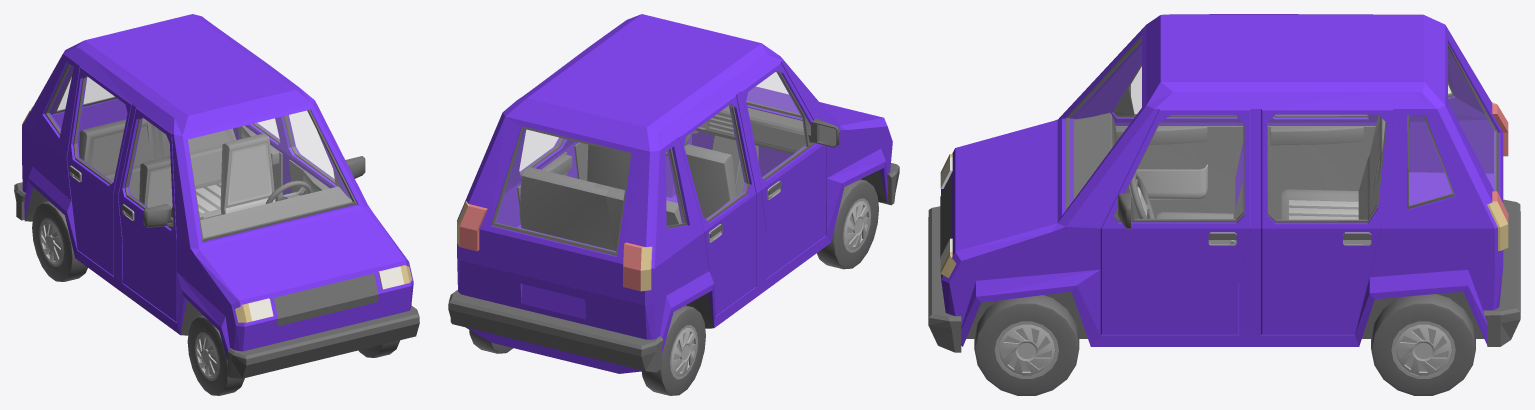
3 views of the same model, side by side, from view 1: azimuth 30°, elevation 25°; view 2: azimuth 150°, elevation 25°; view 3: azimuth 270°, elevation 25° (orthographic). The views are drawn at different scales.
Parts seen in each view (by area): view 1: Chassis_Chassis_0, Windows_Windows_0, Chassis_Bumpers_0, Interior_InteriorPanel_0, FR_Door_Chassis_0, RR_Door_Chassis_0, Interior_Handler_0, RR_Door_Windows_0, FR_Door_Windows_0, RR_Wheel_Tire_0, FR_Wheel_Tire_0, FL_Door_Windows_0 (+13 smaller); view 2: Chassis_Chassis_0, Windows_Windows_0, Interior_InteriorPanel_0, Chassis_Bumpers_0, FR_Door_Chassis_0, RR_Door_Chassis_0, RR_Door_Windows_0, FR_Door_Windows_0, FR_Wheel_Tire_0, RR_Wheel_Tire_0, Brake_Lights_Brake_lights_0, Interior_InteriorPanel_0.001 (+12 smaller); view 3: Chassis_Chassis_0, FL_Door_Chassis_0, RL_Door_Chassis_0, RL_Door_Windows_0, Windows_Windows_0, FL_Door_Windows_0, Chassis_Bumpers_0, RR_Door_InteriorPanel_0, FR_Door_InteriorPanel_0, RL_Wheel_Tire_0, FL_Wheel_Tire_0, Interior_InteriorPanel_0 (+14 smaller).
Part boxes in pixels (left/top/right/bottom): Chassis_Chassis_0: left=22, top=14, right=413, bottom=360; Windows_Windows_0: left=48, top=65, right=352, bottom=237; Chassis_Bumpers_0: left=14, top=63, right=419, bottom=378; Interior_InteriorPanel_0: left=79, top=118, right=352, bottom=237; FR_Door_Chassis_0: left=118, top=108, right=176, bottom=321; RR_Door_Chassis_0: left=67, top=67, right=131, bottom=276; Interior_Handler_0: left=147, top=142, right=274, bottom=213; RR_Door_Windows_0: left=76, top=77, right=126, bottom=182; FR_Door_Windows_0: left=127, top=118, right=171, bottom=207; RR_Wheel_Tire_0: left=32, top=201, right=87, bottom=281; FR_Wheel_Tire_0: left=187, top=315, right=244, bottom=395; FL_Door_Windows_0: left=286, top=111, right=334, bottom=180; Chassis_Chassis_0: left=457, top=14, right=892, bottom=373; Windows_Windows_0: left=495, top=73, right=798, bottom=251; Interior_InteriorPanel_0: left=519, top=105, right=803, bottom=250; Chassis_Bumpers_0: left=448, top=101, right=899, bottom=372; FR_Door_Chassis_0: left=741, top=62, right=826, bottom=278; RR_Door_Chassis_0: left=678, top=95, right=756, bottom=315; RR_Door_Windows_0: left=685, top=106, right=746, bottom=219; FR_Door_Windows_0: left=747, top=73, right=805, bottom=177; FR_Wheel_Tire_0: left=817, top=179, right=878, bottom=269; RR_Wheel_Tire_0: left=642, top=305, right=705, bottom=395; Brake_Lights_Brake_lights_0: left=459, top=204, right=643, bottom=291; Interior_InteriorPanel_0.001: left=691, top=113, right=805, bottom=151; Chassis_Chassis_0: left=941, top=14, right=1503, bottom=346; FL_Door_Chassis_0: left=1100, top=109, right=1250, bottom=334; RL_Door_Chassis_0: left=1261, top=109, right=1393, bottom=334; RL_Door_Windows_0: left=1268, top=115, right=1384, bottom=219; Windows_Windows_0: left=1069, top=41, right=1495, bottom=205; FL_Door_Windows_0: left=1130, top=116, right=1242, bottom=218; Chassis_Bumpers_0: left=928, top=35, right=1520, bottom=352; RR_Door_InteriorPanel_0: left=1268, top=126, right=1375, bottom=219; FR_Door_InteriorPanel_0: left=1115, top=126, right=1243, bottom=218; RL_Wheel_Tire_0: left=1371, top=294, right=1475, bottom=395; FL_Wheel_Tire_0: left=974, top=295, right=1079, bottom=395; Interior_InteriorPanel_0: left=1074, top=112, right=1385, bottom=219.
Size of the model in its own units: 5.14 by 5.15 by 9.39.
